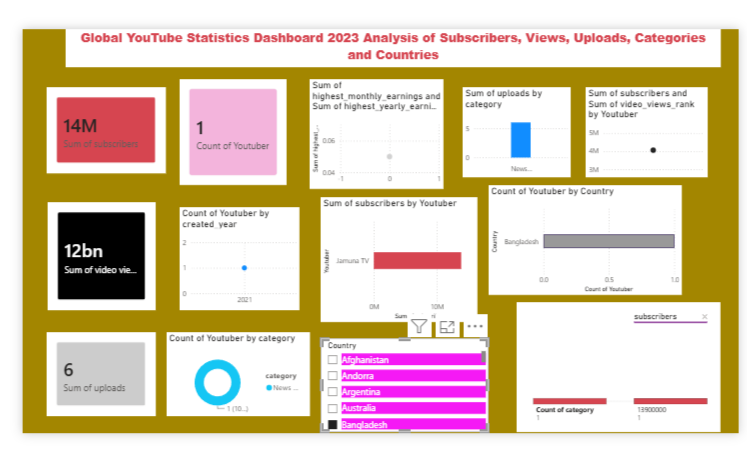

What the dashboard file says about the page in this screenshot:
{"tool":"powerbi","page":{"name":"Page 1","canvas":[1280,720],"ordinal":0},"visuals":[{"type":"cardVisual","fields":{"Data":["Sum(Global YouTube Statistics.subscribers)"]},"box":[42.9,103.6,212.5,153.6],"z":0},{"type":"cardVisual","fields":{"Data":["Sum(Global YouTube Statistics.video views)"]},"box":[44.6,308.9,192.9,192.9],"z":1000},{"type":"cardVisual","fields":{"Data":["Sum(Global YouTube Statistics.uploads)"]},"box":[42.9,541.1,194.6,150],"z":2000},{"type":"cardVisual","fields":{"Data":["Count(Global YouTube Statistics.Youtuber)"]},"box":[280.4,89.3,191.1,189.3],"z":3000},{"type":"clusteredBarChart","fields":{"Category":["Global YouTube Statistics.Youtuber"],"Y":["Sum(Global YouTube Statistics.subscribers)"]},"box":[532.1,300,280.4,223.2],"z":4000},{"type":"decompositionTreeVisual","fields":{"Analyze":["CountNonNull(Global YouTube Statistics.category)"],"ExplainBy":["Global YouTube Statistics.subscribers"]},"box":[882.1,487.5,364.3,232.1],"z":5000},{"type":"clusteredBarChart","fields":{"Y":["CountNonNull(Global YouTube Statistics.Youtuber)"],"Category":["Global YouTube Statistics.Country"]},"box":[832.1,278.6,344.6,196.4],"z":6000},{"type":"donutChart","fields":{"Category":["Global YouTube Statistics.category"],"Y":["CountNonNull(Global YouTube Statistics.Youtuber)"]},"box":[257.1,541.1,256,150],"z":7000},{"type":"scatterChart","fields":{"X":["Sum(Global YouTube Statistics.subscribers)"],"Y":["Sum(Global YouTube Statistics.video_views_rank)"],"Category":["Global YouTube Statistics.Youtuber"]},"box":[1005.4,103.6,217.9,160.7],"z":8000},{"type":"scatterChart","fields":{"X":["Sum(Global YouTube Statistics.highest_monthly_earnings)"],"Y":["Sum(Global YouTube Statistics.highest_yearly_earnings)"],"Category":["Global YouTube Statistics.Youtuber"]},"box":[512.5,89.3,239.3,196.4],"z":9000},{"type":"clusteredColumnChart","fields":{"Y":["Sum(Global YouTube Statistics.uploads)"],"Category":["Global YouTube Statistics.category"]},"box":[785.7,103.6,192.9,160.7],"z":10000},{"type":"lineChart","fields":{"Category":["Global YouTube Statistics.created_year"],"Y":["CountNonNull(Global YouTube Statistics.Youtuber)"]},"box":[280.4,317.9,214.3,183.9],"z":11000},{"type":"slicer","fields":{"Values":["Global YouTube Statistics.Country"]},"box":[532.1,551.8,300,167.9],"z":12000},{"type":"textbox","title":"Global YouTube Statistics Dashboard 2023 Analysis of Subscribers, Views, Uploads, Categories and Countries","box":[76.8,0,1169.6,67.9],"z":13000}]}

Visuals, with their boxes in screenshot pixels (x1, y1, x2, y2):
cardVisual - Sum(Global YouTube Statistics.subscribers): locate(47, 89, 165, 174)
cardVisual - Sum(Global YouTube Statistics.video views): locate(48, 203, 155, 310)
cardVisual - Sum(Global YouTube Statistics.uploads): locate(47, 331, 155, 415)
cardVisual - Count(Global YouTube Statistics.Youtuber): locate(179, 81, 285, 186)
clusteredBarChart - Global YouTube Statistics.Youtuber x Sum(Global YouTube Statistics.subscribers): locate(319, 198, 474, 322)
decompositionTreeVisual - CountNonNull(Global YouTube Statistics.category) x Global YouTube Statistics.subscribers: locate(513, 302, 715, 431)
clusteredBarChart - CountNonNull(Global YouTube Statistics.Youtuber) x Global YouTube Statistics.Country: locate(485, 186, 677, 295)
donutChart - Global YouTube Statistics.category x CountNonNull(Global YouTube Statistics.Youtuber): locate(166, 331, 308, 415)
scatterChart - Sum(Global YouTube Statistics.subscribers) x Sum(Global YouTube Statistics.video_views_rank): locate(581, 89, 702, 178)
scatterChart - Sum(Global YouTube Statistics.highest_monthly_earnings) x Sum(Global YouTube Statistics.highest_yearly_earnings): locate(308, 81, 441, 190)
clusteredColumnChart - Sum(Global YouTube Statistics.uploads) x Global YouTube Statistics.category: locate(459, 89, 567, 178)
lineChart - Global YouTube Statistics.created_year x CountNonNull(Global YouTube Statistics.Youtuber): locate(179, 208, 298, 310)
slicer - Global YouTube Statistics.Country: locate(319, 337, 485, 431)
"Global YouTube Statistics Dashboard 2023 Analysis of Subscribers, Views, Uploads, Categories and Countries" textbox: locate(66, 31, 715, 69)
